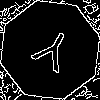Y: (25, 25, 77, 82)
